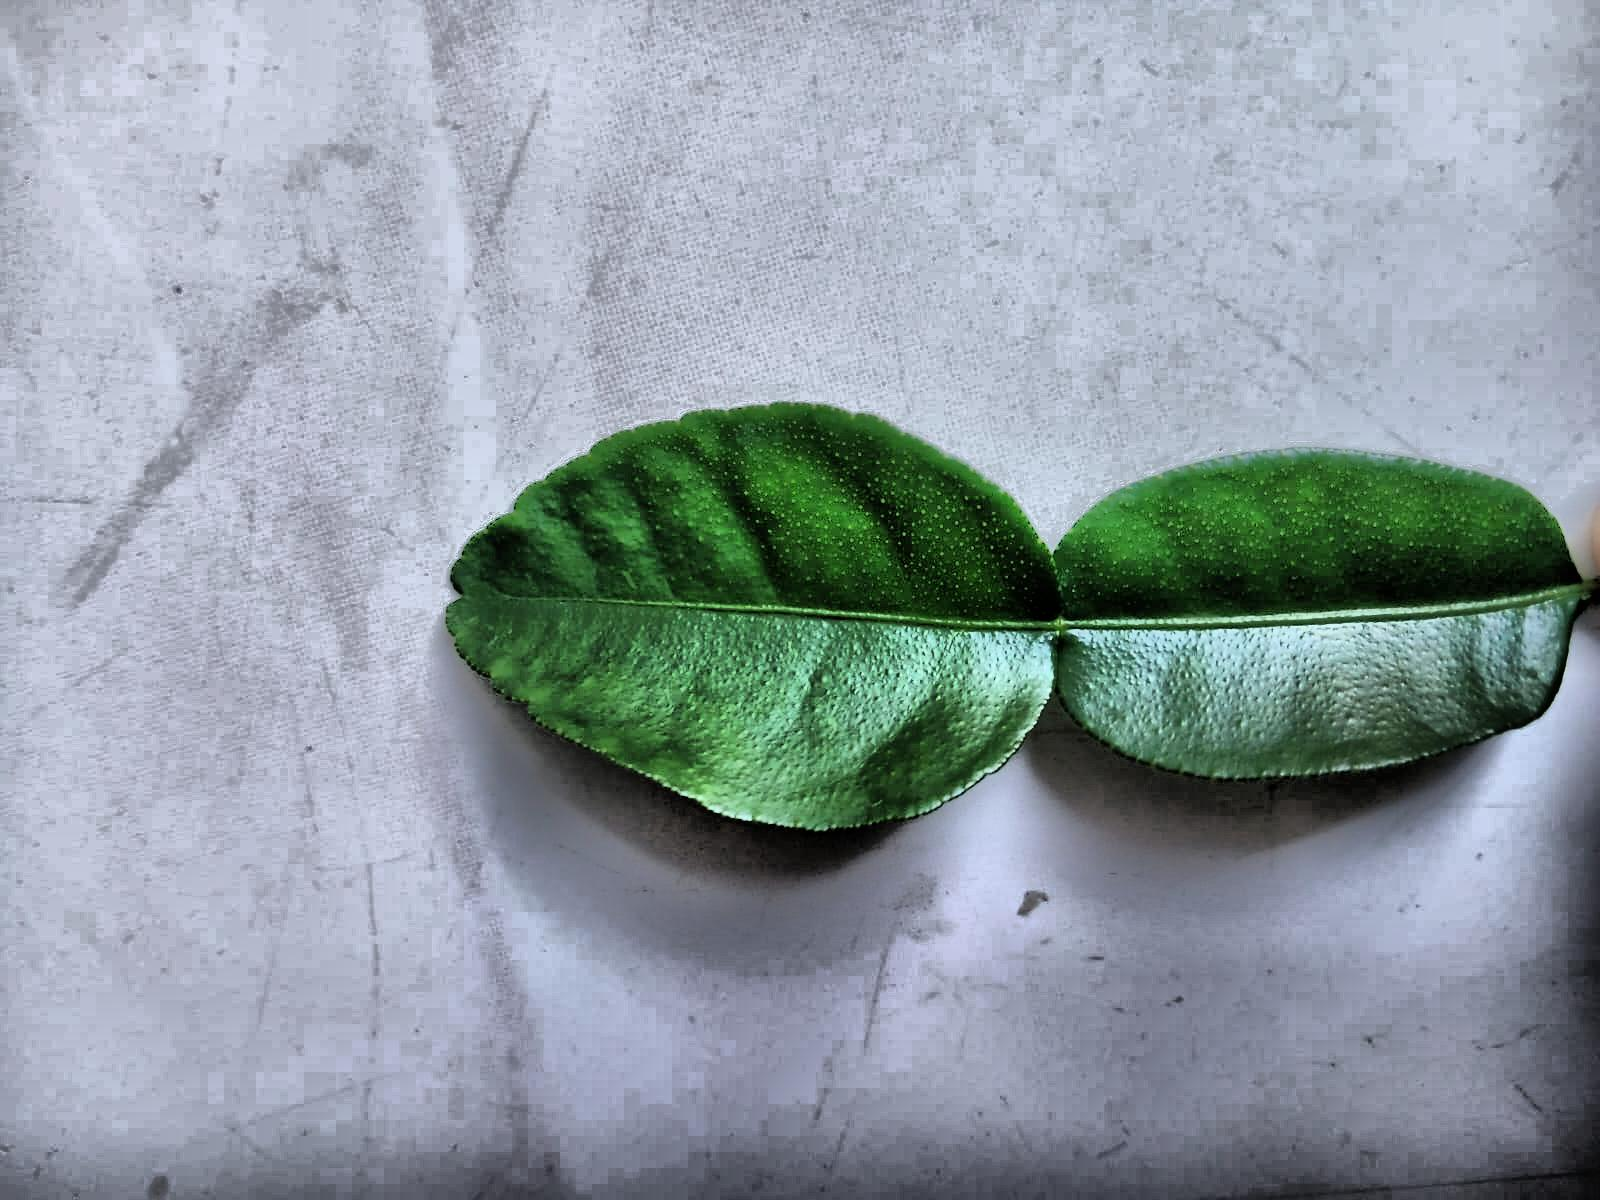daun jeruk: (446, 405, 1595, 829)
